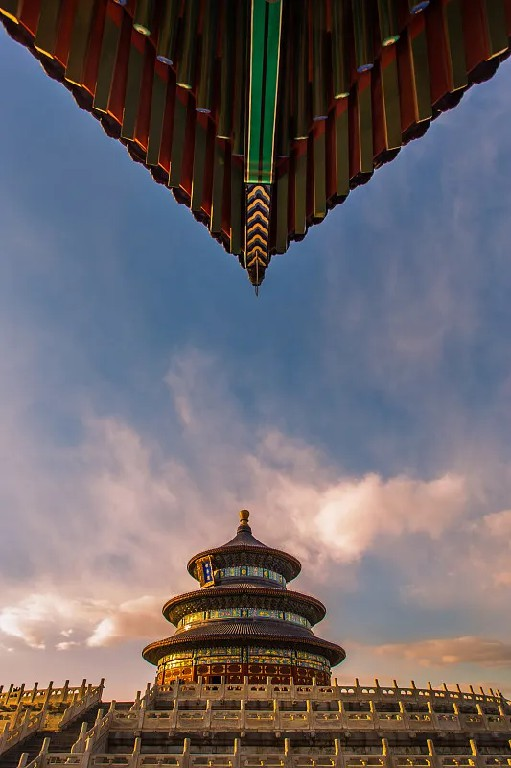Heaven: (142, 511, 349, 688)
